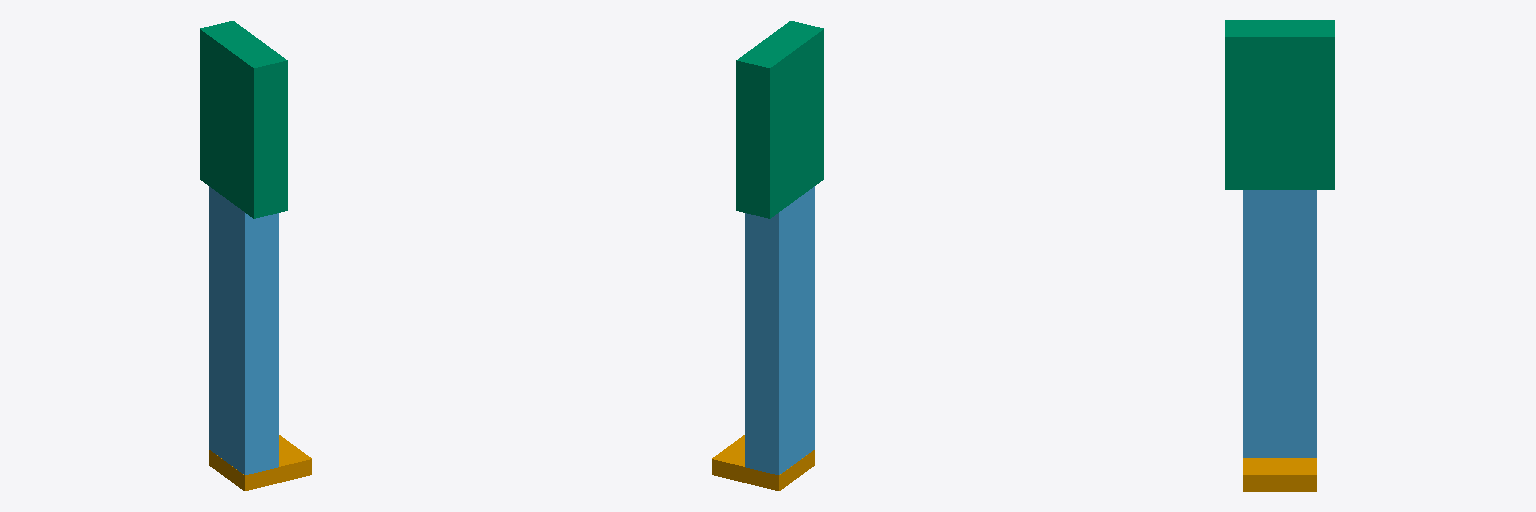
The robot description file, URDF, robot "threeLinkHuman_subject2":
<robot name="threeLinkHuman_subject2">
    <link name="foot">
        <inertial>
            <mass value="3.188"/>
            <origin xyz="0 0 0.0265" rpy="0 0 0" />
            <inertia ixx="0.013" iyy="0.015" izz="0.027" ixy="0" ixz="0" iyz="0"/>
        </inertial>

        <visual>
			<origin xyz="0 0 0.0265" rpy="0 0 0" />
            <geometry>
                <box size="0.234 0.215 0.053"/>
            </geometry>
        </visual>

        <collision>
			<origin xyz="0 0 0.0265" rpy="0 0 0" />
            <geometry>
                <box size="0.234 0.215 0.053"/>
            </geometry>
        </collision>
    </link>
    
    <link name="leg">
        <inertial>
            <mass value="26.065"/>
            <origin xyz="0 0 0.4335" rpy="0 0 0" />
            <inertia ixx="1.735" iyy="1.661" izz="0.132" ixy="0" ixz="0" iyz="0"/>
        </inertial>

        <visual>
            <origin xyz="0 0 0.4335" rpy="0 0 0" />
            <geometry>
                <box size="0.116 0.218 0.867"/>
            </geometry>
        </visual>

        <collision>
            <origin xyz="0 0 0.4335" rpy="0 0 0" />
            <geometry>
                <box size="0.116 0.218 0.867"/>
            </geometry>
        </collision>
    </link>
    
    <link name="torso">
        <inertial>
            <mass value="22.224"/>
            <origin xyz="0 0 0.248" rpy="0 0 0" />
            <inertia ixx="0.650" iyy="0.480" izz="0.220" ixy="0" ixz="0" iyz="0"/>
        </inertial>

        <visual>
            <origin xyz="0 0 0.248" rpy="0 0 0" />
            <geometry>
                <box size="0.116 0.325 0.496"/>
            </geometry>
        </visual>

        <collision>
            <origin xyz="0 0 0.248" rpy="0 0 0" />
            <geometry>
                <box size="0.116 0.325 0.496"/>
            </geometry>
        </collision>
    </link>
        
    <joint name="ankle" type="revolute">
        <origin xyz="-0.0585 0 0.053" rpy="0 0 0"/>
        <parent link="foot"/>
        <child link="leg"/>
        <dynamics damping="0.1" friction="0.0"/>
        <limit effort="30" velocity="1.0" lower="-10.0" upper="10.0" />
        <axis xyz="0 1 0" />
    </joint>
    
    <joint name="hip" type="revolute">
        <origin xyz="0 0 0.867" rpy="0 0 0"/>
        <parent link="leg"/>
        <child link="torso"/>
        <dynamics damping="0.1" friction="0.0"/>
        <limit effort="30" velocity="1.0" lower="-10.0" upper="10.0" />
        <axis xyz="0 1 0" />
    </joint>

</robot>
      

--- Render facts (derived) ---
Views: 3 orthographic renders of the robot side by side, from view 1: azimuth 30°, elevation 25°; view 2: azimuth 150°, elevation 25°; view 3: azimuth 270°, elevation 25°.
Robot: threeLinkHuman_subject2 — 3 links, 2 joints (2 revolute); root link foot; default pose: all joints at 0.
Links seen in each view (by area): view 1: leg, torso, foot; view 2: leg, torso, foot; view 3: leg, torso, foot.
Boxes of the visible links, x1,y1,x2,y2 form: leg: [209, 186, 278, 474]; torso: [200, 21, 287, 218]; foot: [209, 435, 311, 490]; leg: [745, 186, 814, 474]; torso: [736, 21, 823, 218]; foot: [712, 435, 814, 490]; leg: [1243, 190, 1316, 457]; torso: [1225, 20, 1334, 189]; foot: [1243, 458, 1316, 491].
Size in the robot's own frame: 0.234 by 0.325 by 1.42 metres.
Geometry: primitives only (box / cylinder / sphere), no mesh files.
